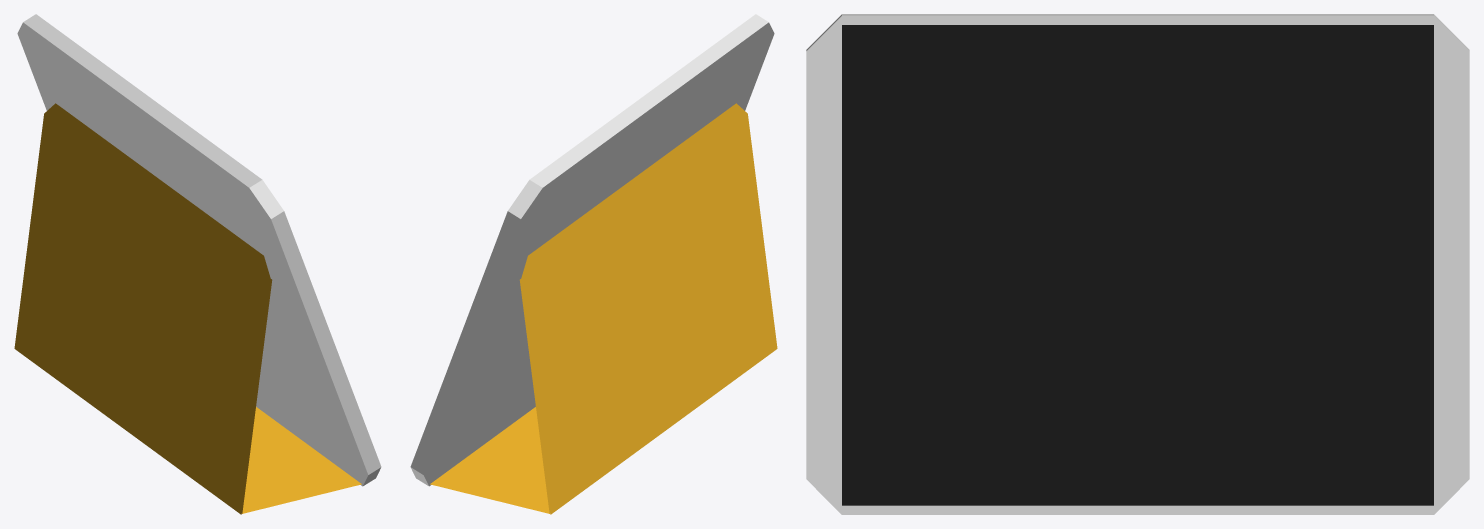
The model's file is tablet.fbx.
The picture shows the model from 3 angles, left to right: view 1: azimuth 30°, elevation 25°; view 2: azimuth 150°, elevation 25°; view 3: azimuth 270°, elevation 25°; orthographic projection. The views are drawn at different scales.
Parts seen in each view (by area): view 1: low_poly_interior_147; view 2: low_poly_interior_147; view 3: low_poly_interior_147.
Boxes of the visible parts, box(x1,y1,x2,y2) form: low_poly_interior_147: box(14, 14, 381, 514); low_poly_interior_147: box(410, 14, 777, 514); low_poly_interior_147: box(806, 14, 1469, 514).
Bounding box in the file's own units: 0.1944 × 0.4565 × 0.6334.
